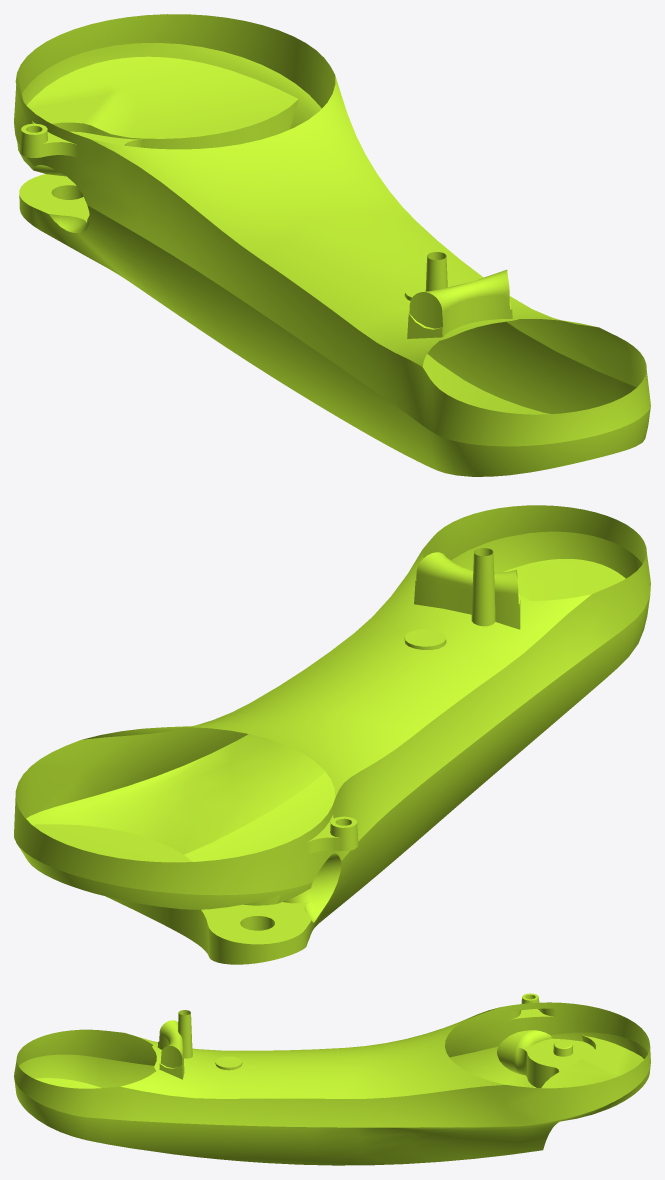
The model's file is Pfen3DE45D4A9opp_21_Pfen3DE45D4A9opp_Mesh_0.obj.
3 renders of one model, top to bottom at view 1: azimuth 30°, elevation 25°; view 2: azimuth 150°, elevation 25°; view 3: azimuth 270°, elevation 25°, orthographic. The views are drawn at different scales.
Visible parts, largest first — view 1: Mesh_Diffuse_9; view 2: Mesh_Diffuse_9; view 3: Mesh_Diffuse_9.
Part boxes in pixels (box(x1,y1,x2,y2)): Mesh_Diffuse_9: box(14, 14, 650, 476); Mesh_Diffuse_9: box(14, 505, 650, 964); Mesh_Diffuse_9: box(14, 993, 650, 1165).
Bounding box in the file's own units: 0.6354 × 0.4076 × 1.79.
